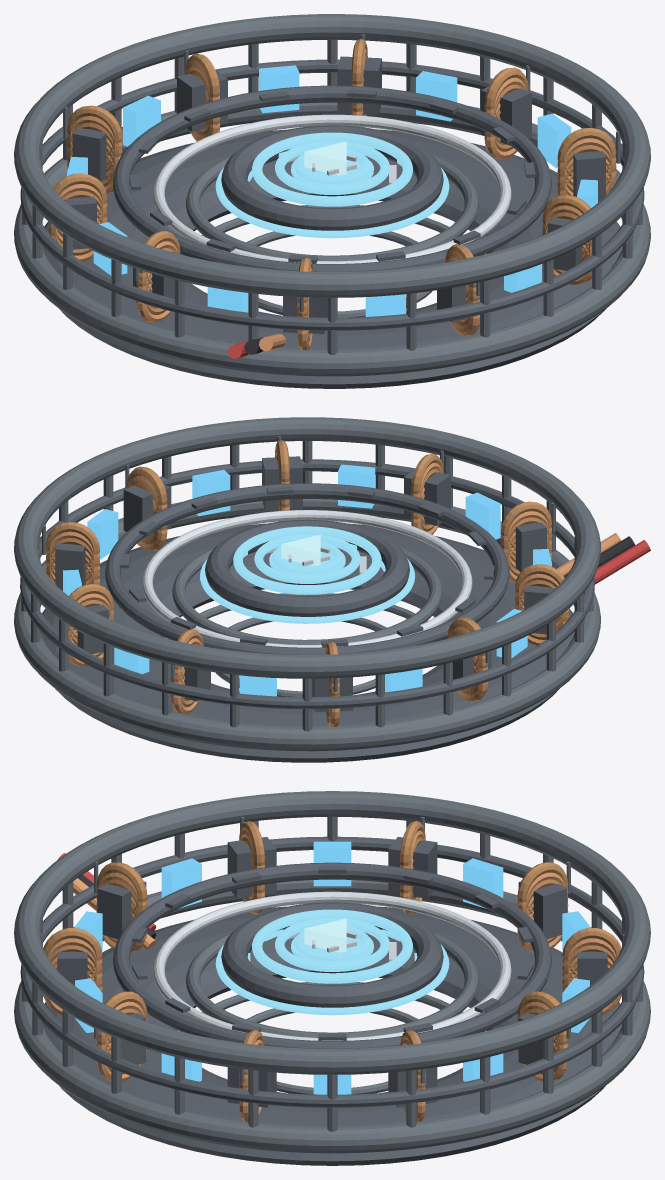
The model's file is reactor.glb.
3 renders of one model, top to bottom at view 1: azimuth 30°, elevation 25°; view 2: azimuth 150°, elevation 25°; view 3: azimuth 270°, elevation 25°, orthographic. The views are drawn at different scales.
Parts seen in each view (by area): view 1: OuterCageFront, BackPlateRing, OuterCageRear, OuterCageMid, Ring01, PerforatedInnerRing, Ring02, Ring03, LightRingOuter, LightRingMid, MagneticRing, CoilBlock_3 (+30 smaller); view 2: OuterCageFront, BackPlateRing, OuterCageRear, OuterCageMid, Ring01, PerforatedInnerRing, Ring02, Ring03, LightRingOuter, LightRingMid, MagneticRing, CoilBlock_2 (+26 smaller); view 3: OuterCageFront, BackPlateRing, OuterCageRear, OuterCageMid, Ring01, PerforatedInnerRing, Ring02, Ring03, LightRingOuter, LightRingMid, MagneticRing, CoilBlock_6 (+26 smaller).
Part boxes in pixels (box(x1,y1,x2,y2)): OuterCageFront: box(14, 14, 650, 297); BackPlateRing: box(42, 129, 622, 388); OuterCageRear: box(14, 102, 650, 376); OuterCageMid: box(20, 59, 644, 330); Ring01: box(113, 85, 551, 271); PerforatedInnerRing: box(221, 125, 443, 230); Ring02: box(153, 114, 511, 263); Ring03: box(186, 155, 478, 261); LightRingOuter: box(252, 132, 412, 206); LightRingMid: box(275, 140, 389, 194); MagneticRing: box(215, 167, 449, 238); CoilBlock_3: box(481, 87, 531, 145); OuterCageFront: box(14, 417, 600, 678); BackPlateRing: box(40, 523, 574, 762); OuterCageRear: box(14, 498, 600, 751); OuterCageMid: box(20, 459, 594, 709); Ring01: box(105, 483, 509, 654); PerforatedInnerRing: box(205, 519, 409, 616); Ring02: box(142, 510, 472, 647); Ring03: box(172, 547, 442, 644); LightRingOuter: box(233, 526, 381, 594); LightRingMid: box(254, 534, 360, 583); MagneticRing: box(200, 558, 414, 623); CoilBlock_2: box(123, 484, 170, 538); OuterCageFront: box(14, 791, 650, 1074); BackPlateRing: box(43, 906, 621, 1165); OuterCageRear: box(14, 880, 650, 1153); OuterCageMid: box(20, 836, 644, 1107); Ring01: box(113, 862, 551, 1048); PerforatedInnerRing: box(221, 902, 443, 1007); Ring02: box(153, 891, 511, 1040); Ring03: box(186, 932, 478, 1037); LightRingOuter: box(252, 909, 412, 983); LightRingMid: box(275, 917, 389, 971); MagneticRing: box(215, 945, 449, 1015); CoilBlock_6: box(518, 881, 567, 939).
Bounding box in the file's own units: 3.38 × 0.7746 × 3.38.
